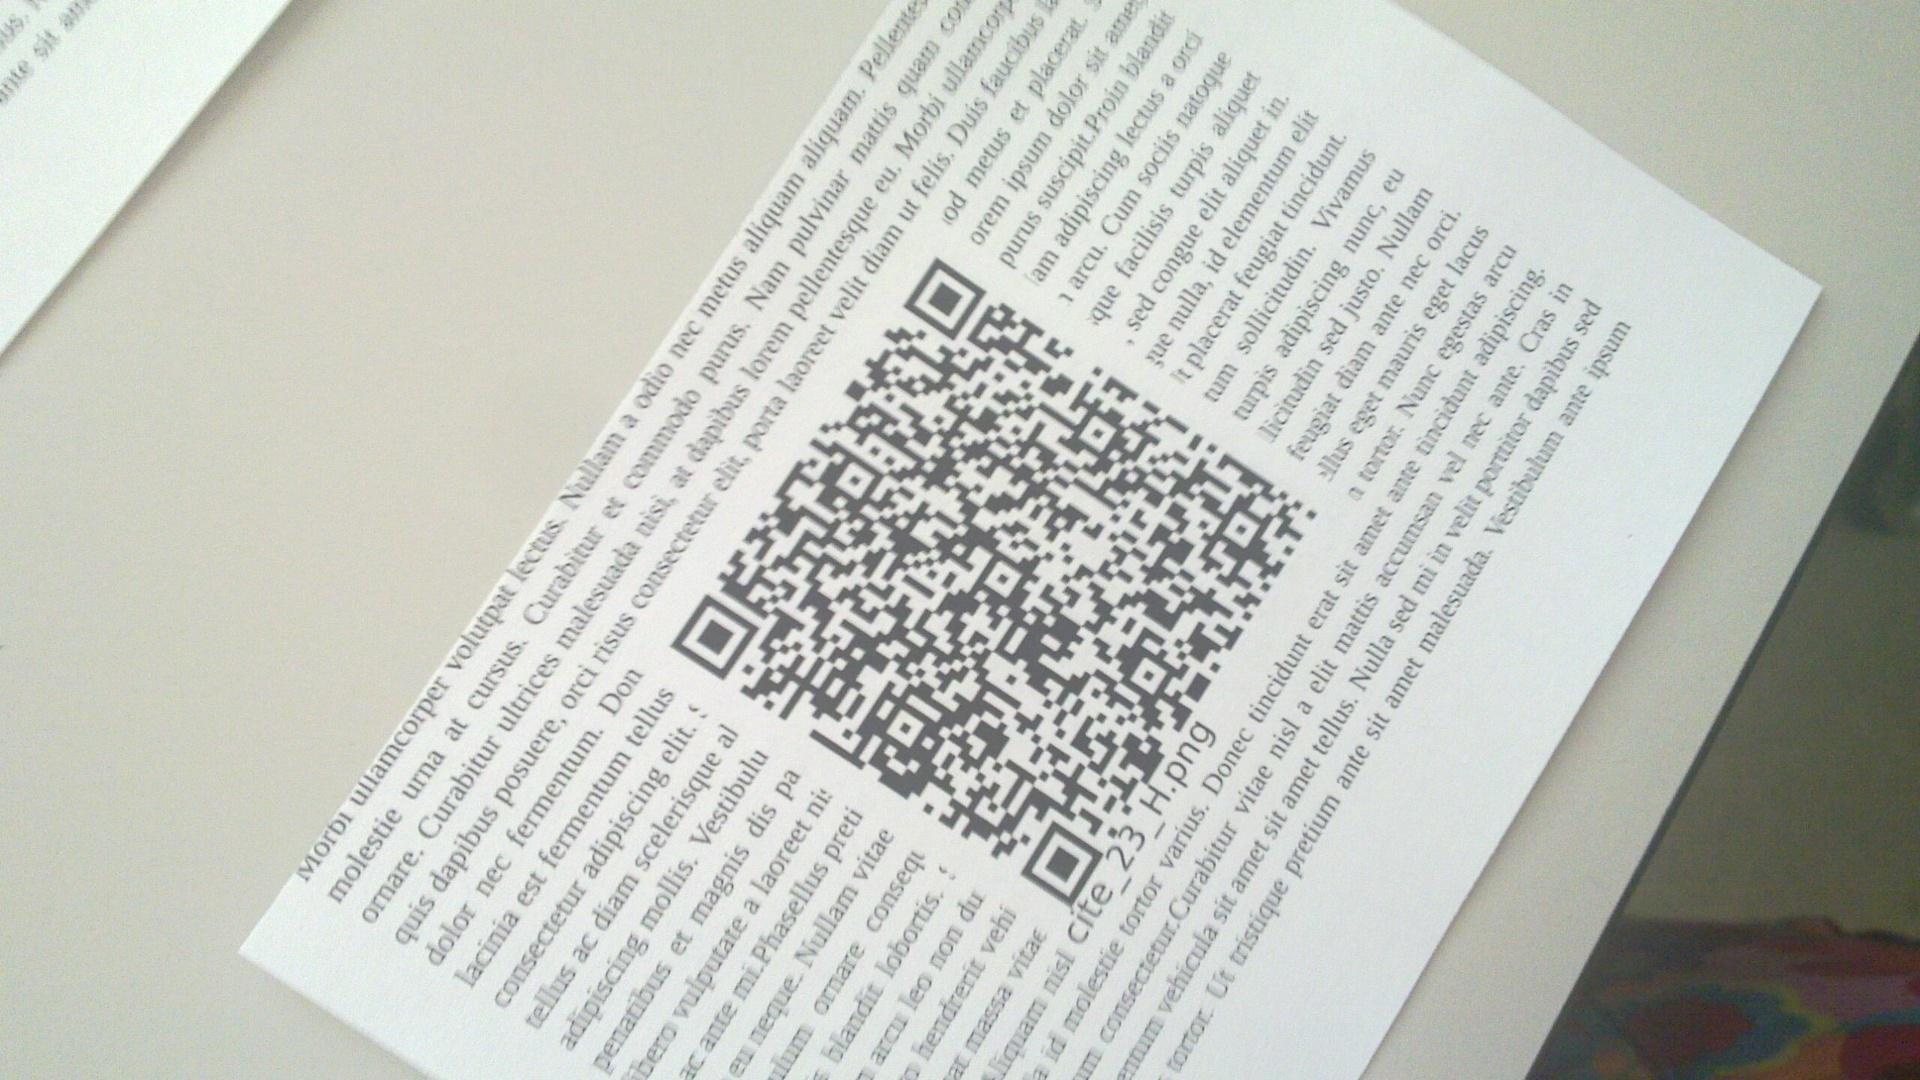Finder pattern: (670, 596, 760, 684), (901, 258, 990, 342), (1021, 825, 1106, 903)
